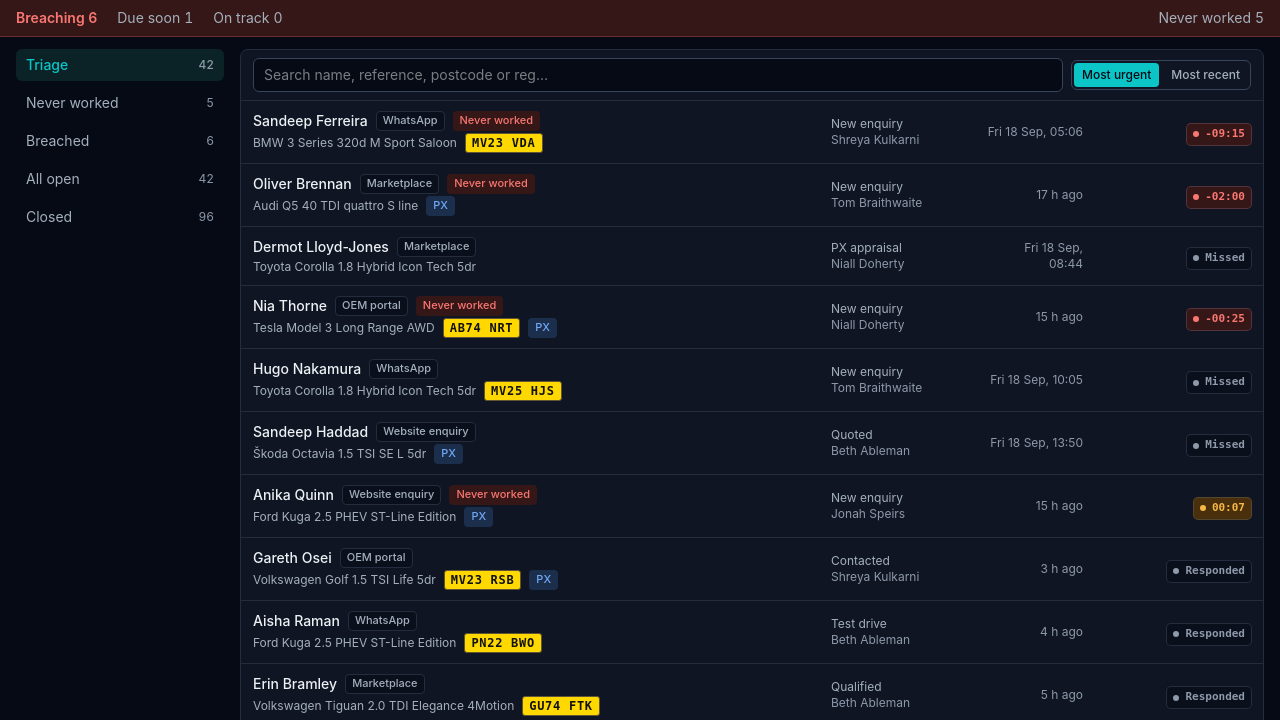
Test: InboxPage › searches by lead reference
This screenshot has width=1280, height=720.
Expected: the link with test id "lead-row" that starts with "Sandeep Ferreira" is shown, x1=241 y1=101 x2=1263 y2=163
Type "ENQ-4101" into the search field with test id "inbox-search" at [658, 75], box x1=253 y1=58 x2=1063 y2=92
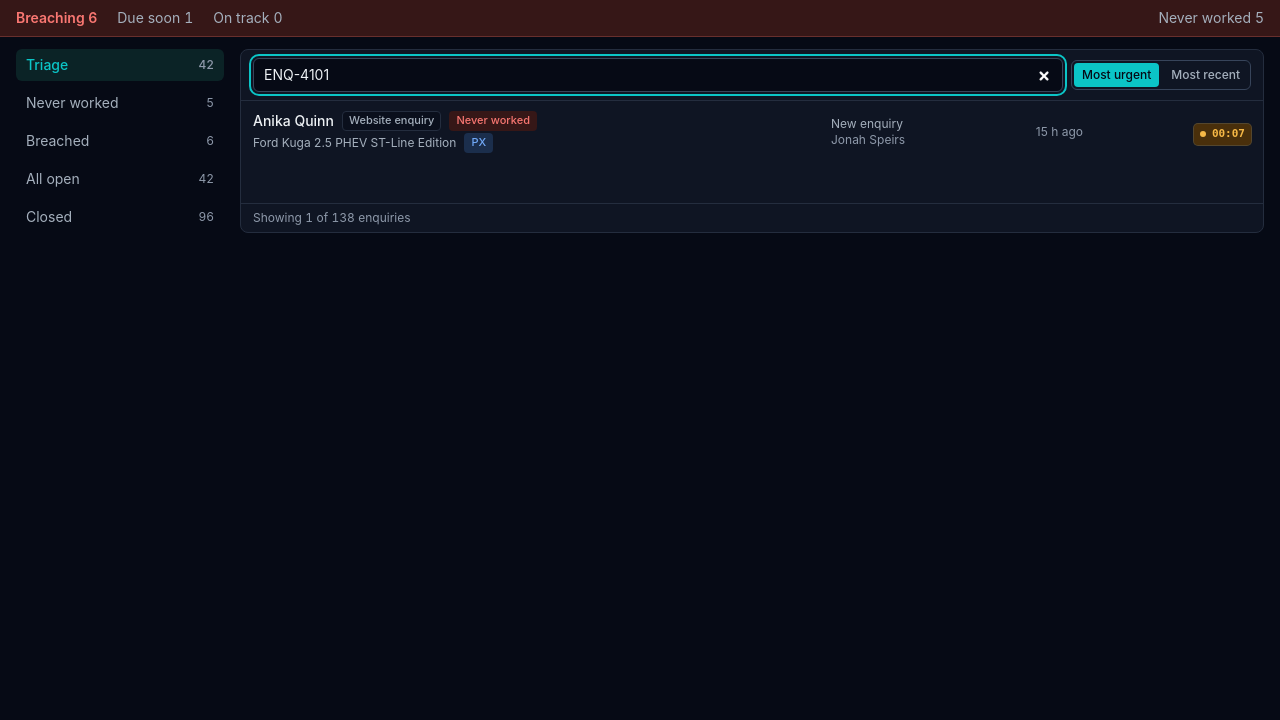
Result: the number of links with test id "lead-row" is 1 at x1=241 y1=101 x2=1263 y2=163
